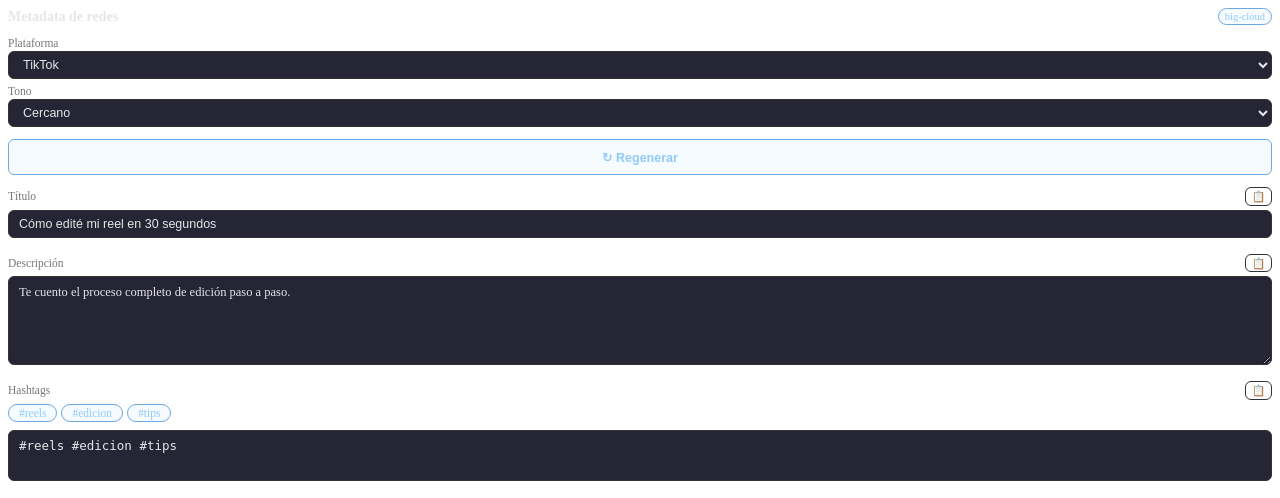
Scenario: MetadataPanel — field editing + copy (META-03) › shows ✓ Copiado chip after copy
Check: the field named "Título" is shown, box [8,210,1272,238]
Click the button named "Copiar Título" at (1258, 196), box [1245,187,1272,206]
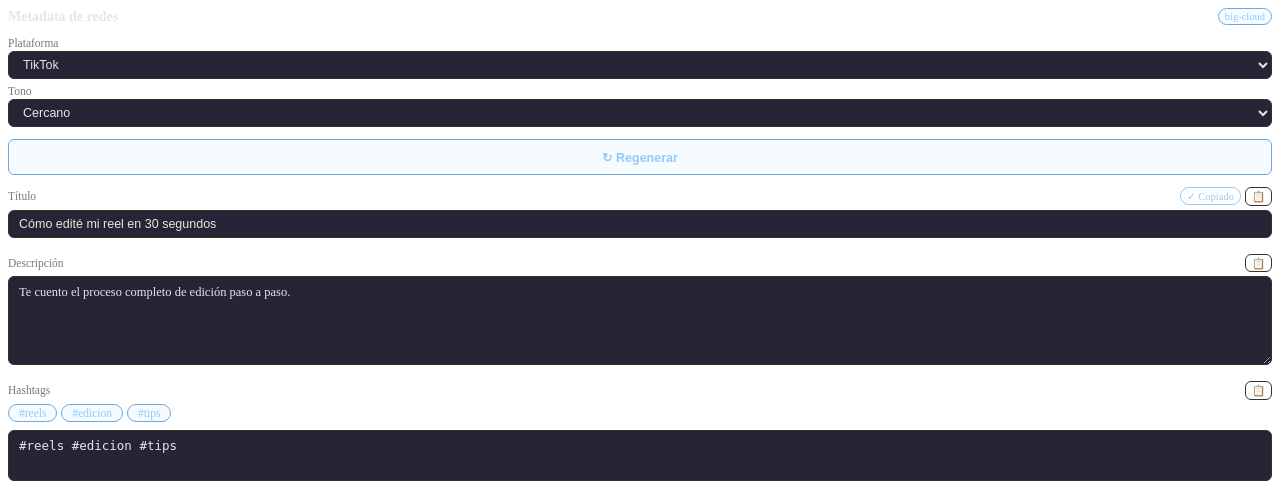
Check: the text "✓ Copiado" is shown, box [1180,187,1241,205]
